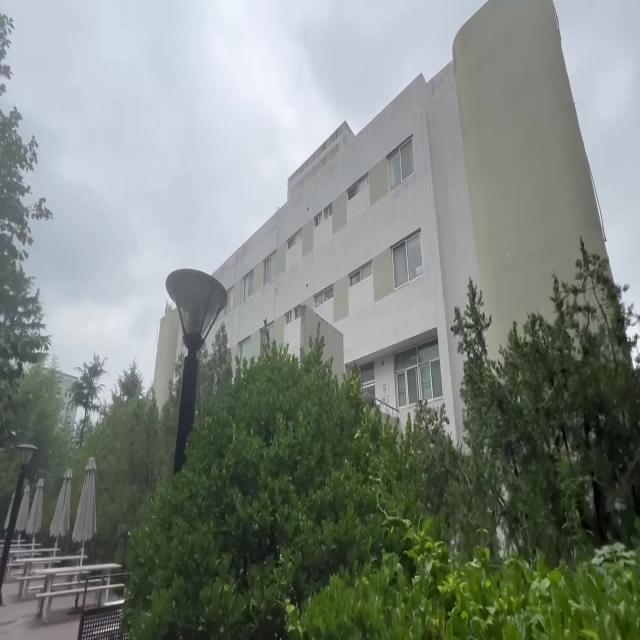building: (248, 49, 460, 372)
